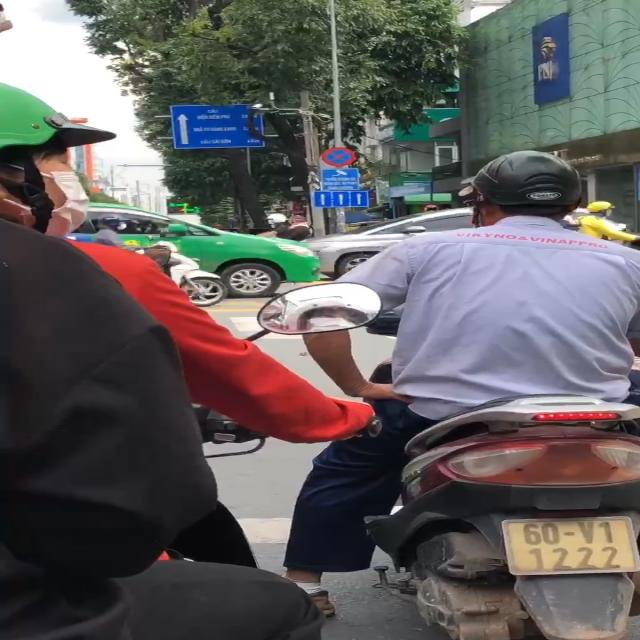Bien bao cam dung xe va do xe: (319, 147, 361, 168)
